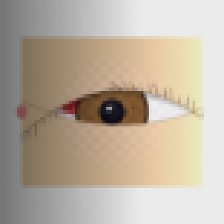hemorrhage_spot: (49, 70, 129, 134)
